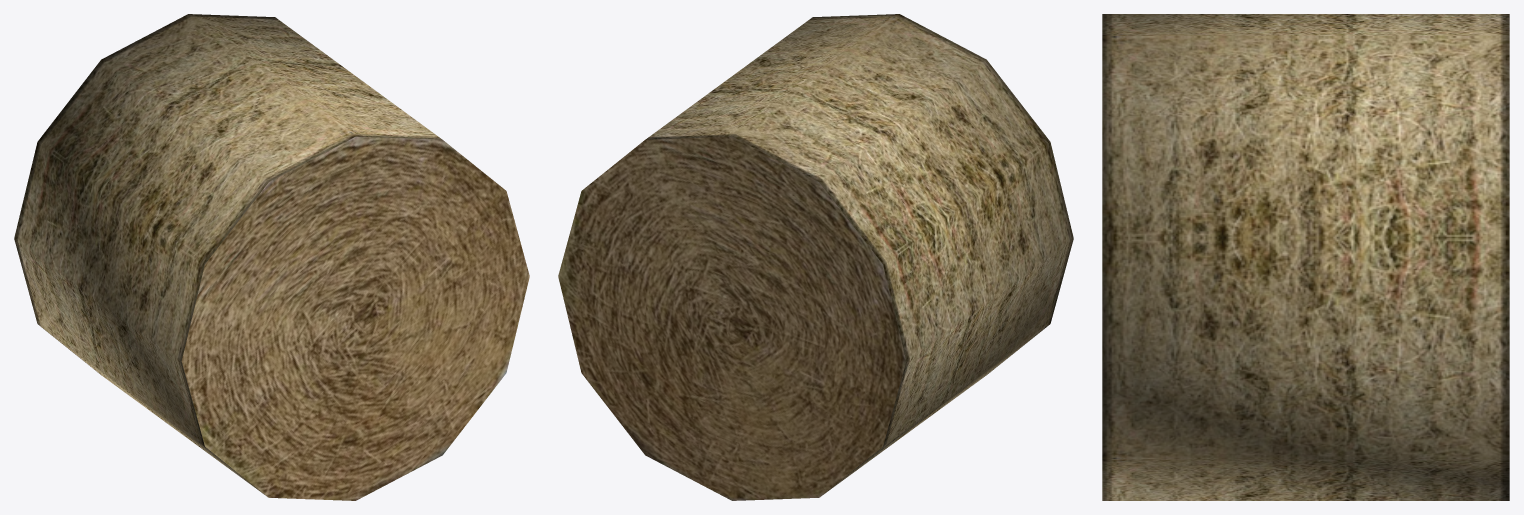
File: hay-bale-straw-cbj_LOD01.gltf
The picture shows the model from 3 angles, left to right: view 1: azimuth 30°, elevation 25°; view 2: azimuth 150°, elevation 25°; view 3: azimuth 270°, elevation 25°; orthographic projection. The views are drawn at different scales.
Parts seen in each view (by area): view 1: Cube01; view 2: Cube01; view 3: Cube01.
Part boxes in pixels (x1,y1,x2,y2): Cube01: (14,14,529,500); Cube01: (558,14,1073,500); Cube01: (1102,14,1509,500).
Size of the model in its own units: 1.8 by 1.8 by 1.5.
